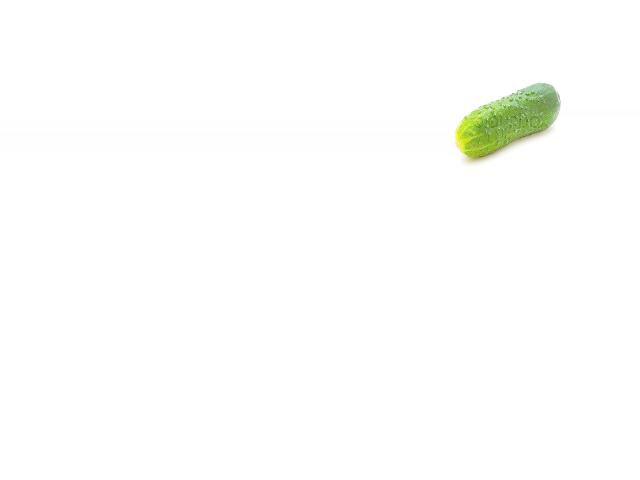cucumber: (454, 82, 560, 157)
